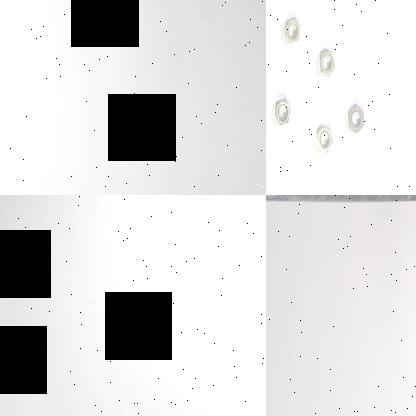NUTS: (346, 99, 366, 135), (316, 44, 336, 79), (315, 120, 334, 156), (283, 14, 303, 46), (272, 96, 292, 127)
